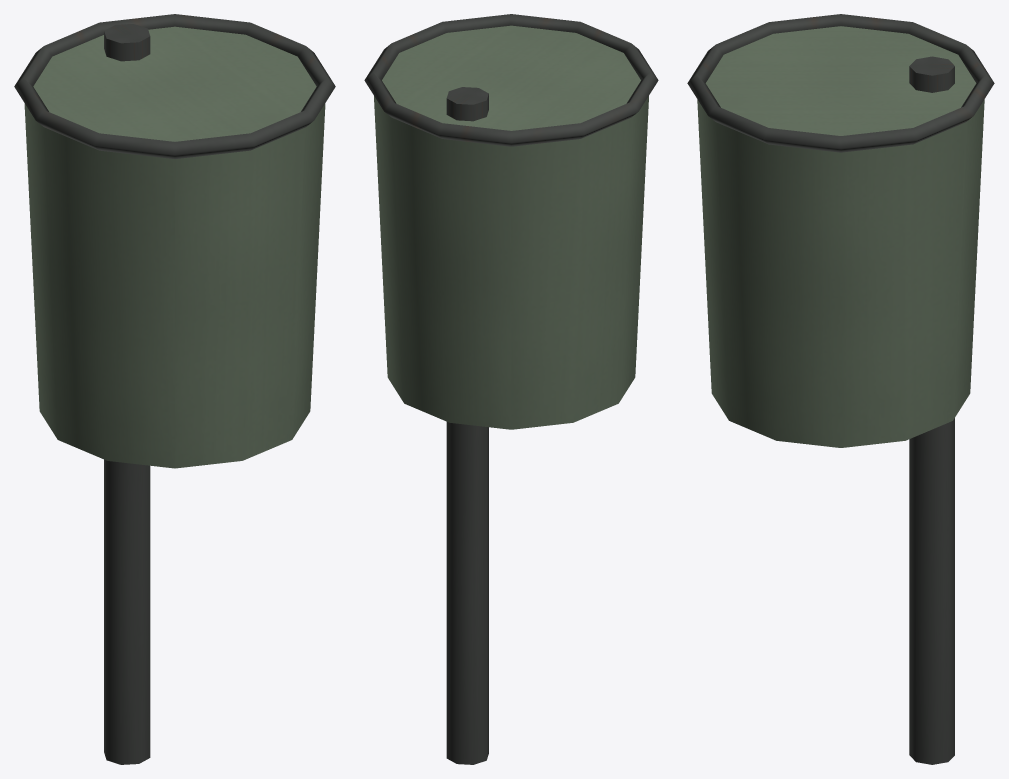
File: OB_Kosz.fbx
3 views of the same model, side by side, from view 1: azimuth 30°, elevation 25°; view 2: azimuth 150°, elevation 25°; view 3: azimuth 270°, elevation 25° (orthographic). The views are drawn at different scales.
Parts seen in each view (by area): view 1: Kosz; view 2: Kosz; view 3: Kosz.
Part boxes in pixels (bbox=[...]): Kosz: bbox=[14, 14, 335, 764]; Kosz: bbox=[364, 14, 658, 764]; Kosz: bbox=[687, 14, 994, 764].
Bounding box in the file's own units: 0.404 × 1 × 0.404.
